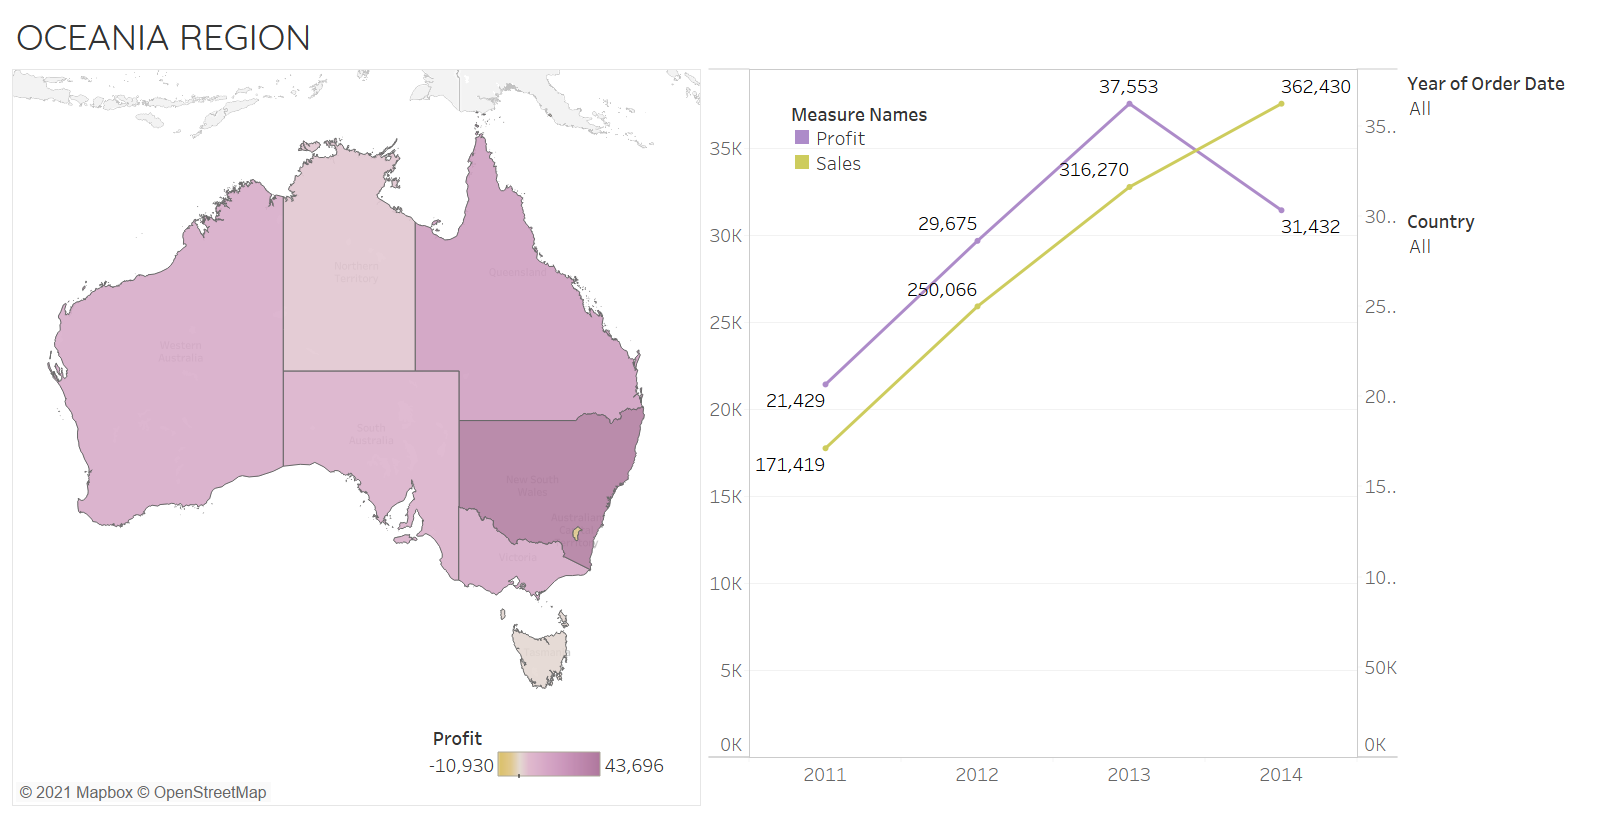

What the dashboard file says about the page in this screenshot:
{"tool":"tableau","page":{"name":"Dashboard 1","canvas":[1000,1000],"units":"permille","ordinal":0},"visuals":[{"type":"worksheet","box":[0,0,1000,1000]},{"type":"worksheet","param":"vert","box":[5,9.8,990,980.4]},{"type":"worksheet","box":[5,9.8,990,69.7]},{"type":"worksheet","param":"vert","box":[5,79.5,990,910.8]},{"type":"worksheet","box":[5,79.5,990,910.8]},{"type":"worksheet","param":"horz","box":[5,79.5,990,910.8]},{"type":"worksheet","box":[5,79.5,990,910.8]},{"type":"worksheet","title":"Profit Map","mark":"Automatic","box":[5,79.5,434.8,910.8]},{"type":"worksheet","param":"vert","box":[439.8,79.5,434.8,910.8]},{"type":"worksheet","title":"Profits and Sales","mark":"Automatic","rows":["Profit","Sales"],"cols":["Order Date"],"box":[439.8,79.5,434.8,910.8]},{"type":"worksheet","param":"vert","box":[874.6,79.5,120.4,910.8]},{"type":"worksheet","title":"Profit Map","mark":"Automatic","param":"[federated.042z3qs0qvl95216848ib0g7yf3s].[yr:Order Date:ok]","box":[874.6,79.5,120.4,168.7]},{"type":"worksheet","title":"Profits and Sales","mark":"Automatic","rows":["Profit","Sales"],"cols":["Order Date"],"param":"[federated.042z3qs0qvl95216848ib0g7yf3s].[:Measure Names]","box":[492.5,121,101.6,121]},{"type":"worksheet","title":"Profit Map","mark":"Automatic","param":"[federated.042z3qs0qvl95216848ib0g7yf3s].[none:Country:nk]","box":[874.6,248.2,120.4,154]},{"type":"worksheet","title":"Profit Map","mark":"Automatic","param":"[federated.042z3qs0qvl95216848ib0g7yf3s].[sum:Profit:qk]","box":[265,881.4,152.1,84.4]}]}

Visuals, with their boxes on the dashboard's canvas, which has no fixed pixel size, in thousandths of its width and height (x1, y1, x2, y2). These are canvas units, not pixel positions in the 1604x818 screenshot, which may show the page scaled, cropped or inside an application window:
worksheet: left=0, top=0, right=1000, bottom=1000
worksheet: left=5, top=10, right=995, bottom=990
worksheet: left=5, top=10, right=995, bottom=80
worksheet: left=5, top=80, right=995, bottom=990
worksheet: left=5, top=80, right=995, bottom=990
worksheet: left=5, top=80, right=995, bottom=990
worksheet: left=5, top=80, right=995, bottom=990
"Profit Map" worksheet: left=5, top=80, right=440, bottom=990
worksheet: left=440, top=80, right=875, bottom=990
"Profits and Sales" worksheet: left=440, top=80, right=875, bottom=990
worksheet: left=875, top=80, right=995, bottom=990
"Profit Map" worksheet: left=875, top=80, right=995, bottom=248
"Profits and Sales" worksheet: left=492, top=121, right=594, bottom=242
"Profit Map" worksheet: left=875, top=248, right=995, bottom=402
"Profit Map" worksheet: left=265, top=881, right=417, bottom=966
